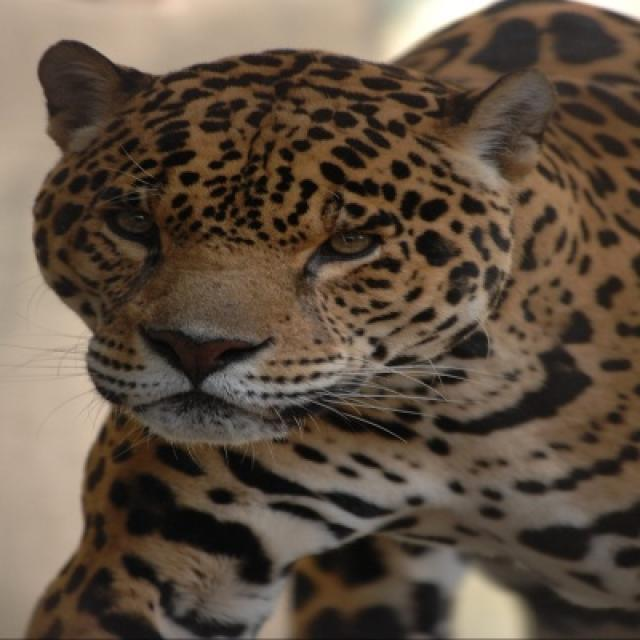Jaguar: (21, 0, 637, 638)
